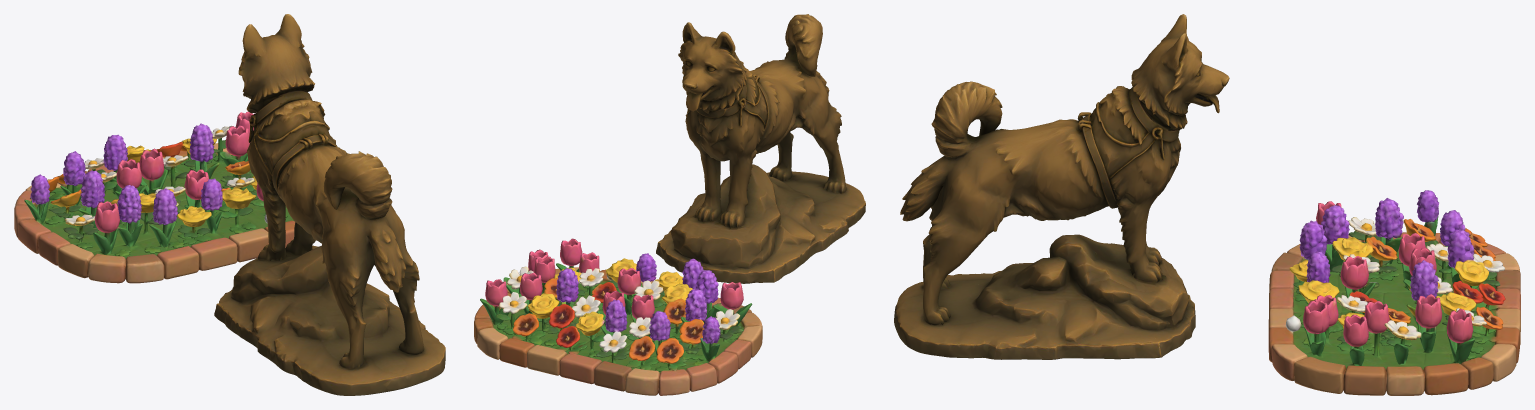
The model's file is DOM_andreyvbvbvb_7.glb.
3 views of the same model, side by side, from view 1: azimuth 30°, elevation 25°; view 2: azimuth 150°, elevation 25°; view 3: azimuth 270°, elevation 25° (orthographic). The views are drawn at different scales.
Parts seen in each view (by area): view 1: tripo_node_9d4479e6-28e3-48fa-aac2-e3e1453f446f, tripo_node_8ec0f642-7c29-4807-817c-92dabbfea2e6.001; view 2: tripo_node_9d4479e6-28e3-48fa-aac2-e3e1453f446f, tripo_node_8ec0f642-7c29-4807-817c-92dabbfea2e6.001; view 3: tripo_node_9d4479e6-28e3-48fa-aac2-e3e1453f446f, tripo_node_8ec0f642-7c29-4807-817c-92dabbfea2e6.001.
Boxes of the visible parts, box(x1,y1,x2,y2) form: tripo_node_9d4479e6-28e3-48fa-aac2-e3e1453f446f: box(214, 14, 445, 395); tripo_node_8ec0f642-7c29-4807-817c-92dabbfea2e6.001: box(14, 111, 295, 283); tripo_node_9d4479e6-28e3-48fa-aac2-e3e1453f446f: box(656, 14, 865, 283); tripo_node_8ec0f642-7c29-4807-817c-92dabbfea2e6.001: box(474, 238, 762, 395); tripo_node_9d4479e6-28e3-48fa-aac2-e3e1453f446f: box(894, 14, 1229, 359); tripo_node_8ec0f642-7c29-4807-817c-92dabbfea2e6.001: box(1268, 190, 1520, 395).
Size of the model in its own units: 0.9999 by 0.9731 by 1.83.
Materials: 2 (2 with a texture image).
